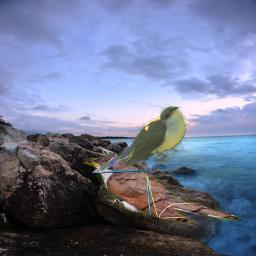Cuckoo: (82, 152, 243, 230), (91, 106, 186, 173)
